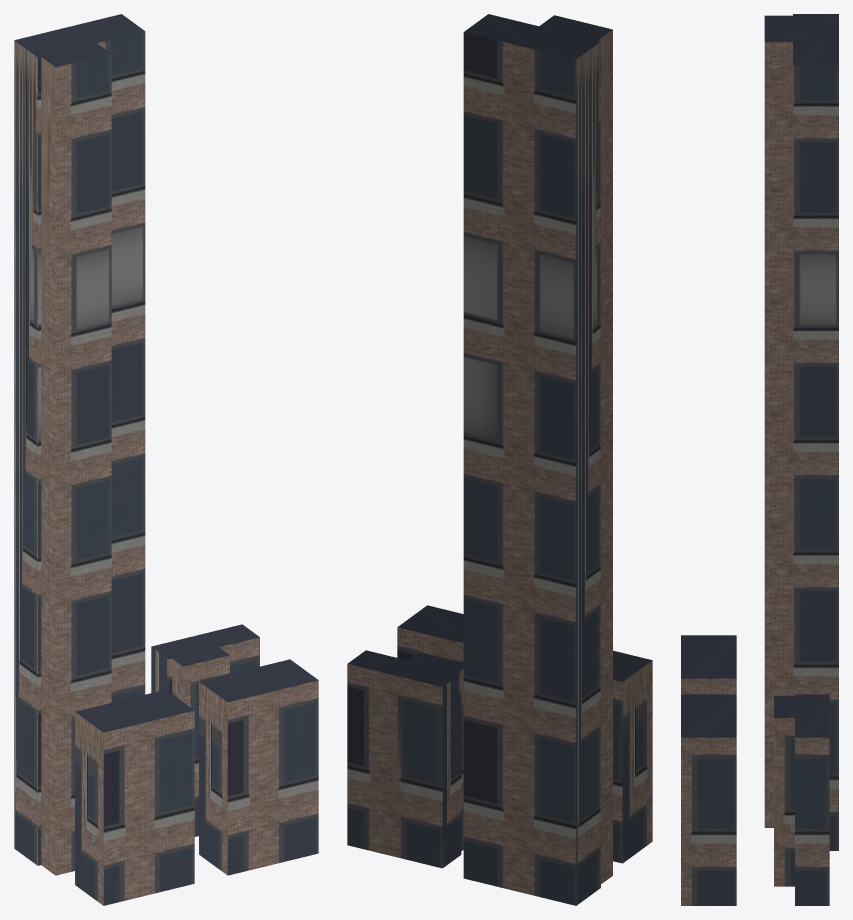
Rendered from city_block_12345_6_06.glb.
The picture shows the model from 3 angles, left to right: view 1: azimuth 30°, elevation 25°; view 2: azimuth 150°, elevation 25°; view 3: azimuth 270°, elevation 25°; orthographic projection. The views are drawn at different scales.
Parts seen in each view (by area): view 1: block_06; view 2: block_06; view 3: block_06.
Part boxes in pixels (x1,y1,x2,y2): block_06: [14, 14, 318, 905]; block_06: [347, 14, 652, 905]; block_06: [681, 14, 838, 905].
Size of the model in its own units: 4.05 by 14 by 2.55.
4 materials, 4 textured.
